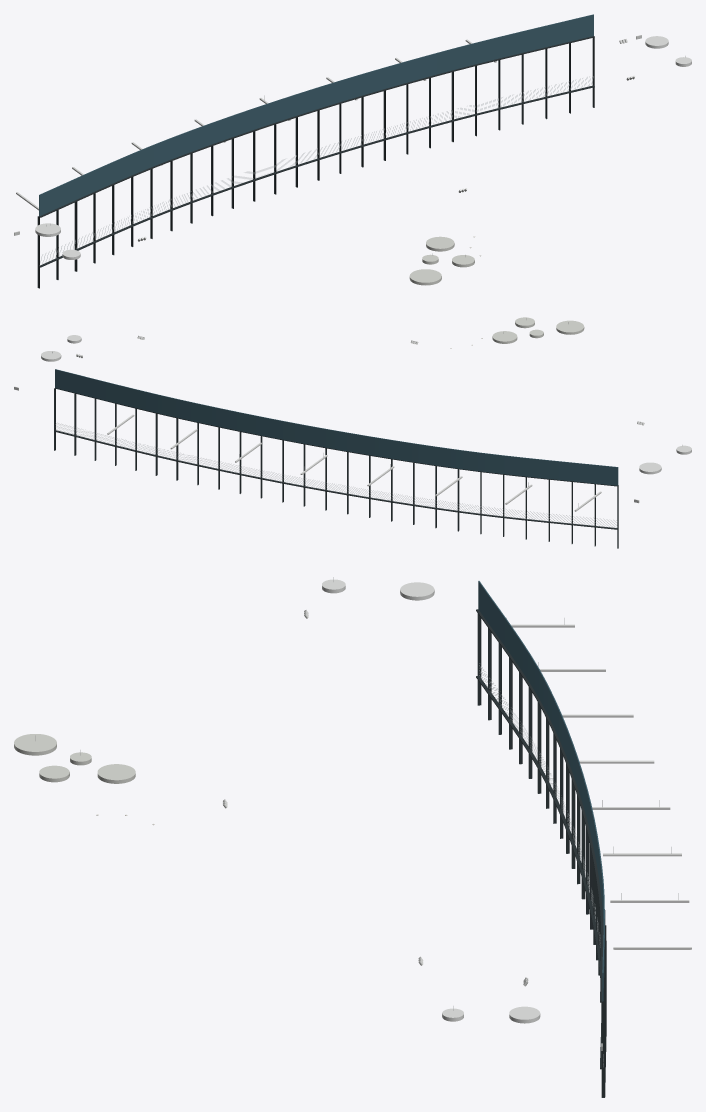
The model's file is SM_L3_Lighting_Solid_b85bcb7747_0.fbx.
3 renders of one model, top to bottom at view 1: azimuth 30°, elevation 25°; view 2: azimuth 150°, elevation 25°; view 3: azimuth 270°, elevation 25°, orthographic. The views are drawn at different scales.
Parts seen in each view (by area): view 1: SM_L3_Lighting_Solid_b85bcb7747_0; view 2: SM_L3_Lighting_Solid_b85bcb7747_0; view 3: SM_L3_Lighting_Solid_b85bcb7747_0.
Part boxes in pixels (box(x1,y1,x2,y2)): SM_L3_Lighting_Solid_b85bcb7747_0: box(14, 14, 691, 288); SM_L3_Lighting_Solid_b85bcb7747_0: box(14, 317, 691, 548); SM_L3_Lighting_Solid_b85bcb7747_0: box(14, 577, 691, 1097).
Size of the model in its own units: 43.88 by 28.41 by 5.76.
